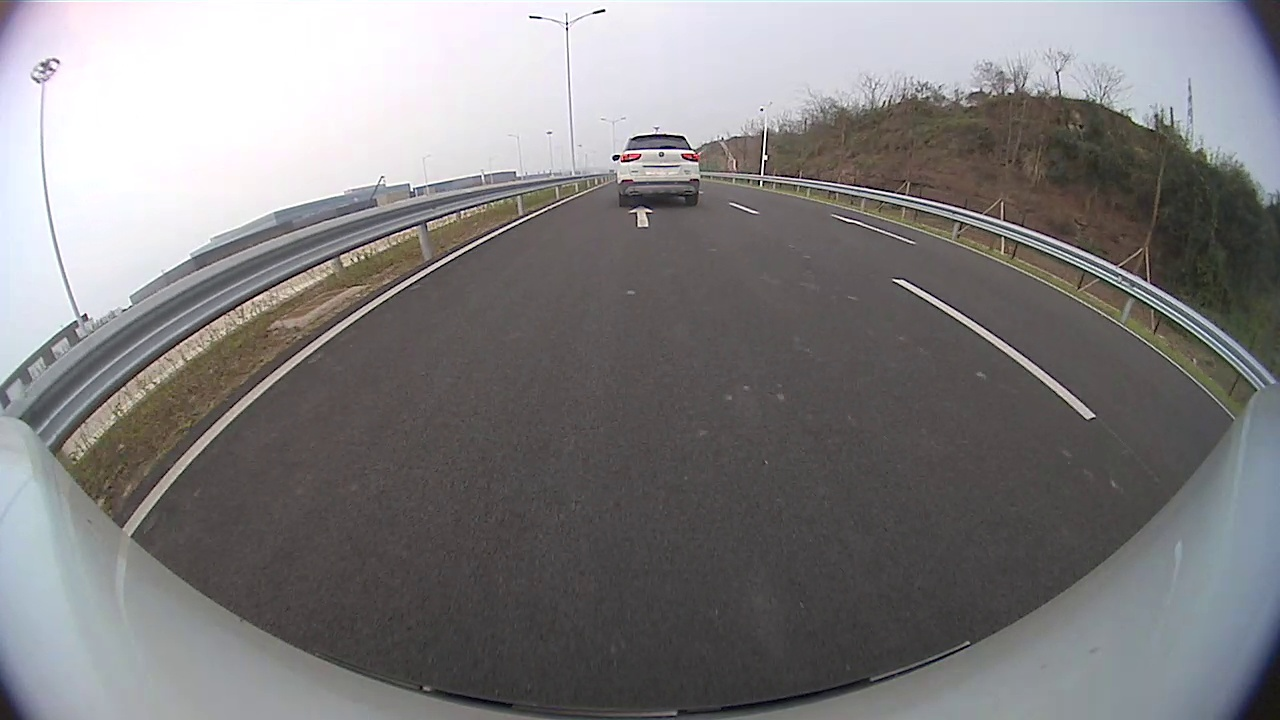car: (612, 133, 701, 207)
